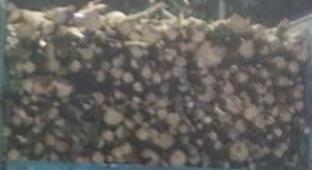large: (195, 42, 225, 67)
medium: (226, 14, 250, 33), (229, 141, 247, 161), (51, 81, 72, 98), (103, 108, 123, 125), (224, 96, 242, 114), (152, 133, 173, 148), (83, 13, 100, 30), (238, 39, 253, 58), (140, 150, 158, 165), (168, 150, 185, 165), (196, 87, 213, 102), (243, 105, 257, 120), (76, 49, 93, 60), (165, 113, 179, 126), (252, 115, 266, 128), (115, 125, 127, 139), (191, 30, 204, 42), (135, 128, 148, 140), (271, 57, 285, 68), (109, 68, 123, 79), (172, 67, 186, 78), (286, 61, 298, 73), (70, 60, 82, 72), (129, 46, 142, 57), (42, 21, 53, 33), (91, 93, 103, 104), (122, 119, 135, 129), (202, 76, 215, 86), (23, 62, 34, 73), (279, 111, 290, 122), (91, 152, 103, 162), (101, 131, 113, 141), (235, 72, 247, 82), (7, 150, 19, 160), (54, 142, 66, 152), (263, 93, 273, 104), (207, 131, 217, 142), (223, 81, 232, 93), (34, 143, 43, 155), (164, 30, 176, 39), (122, 72, 132, 82), (132, 82, 142, 92), (159, 83, 169, 93), (47, 61, 57, 71), (141, 67, 150, 78), (174, 58, 185, 67), (156, 99, 168, 107), (156, 110, 166, 119), (129, 31, 139, 40), (111, 147, 121, 156), (96, 71, 104, 82), (152, 73, 160, 83), (277, 77, 287, 85), (122, 143, 130, 153), (294, 102, 302, 111), (100, 62, 109, 70), (178, 125, 187, 133), (11, 117, 19, 126), (1, 129, 10, 137), (54, 119, 62, 127), (221, 71, 228, 79), (260, 70, 266, 78), (164, 56, 172, 61)
small: (271, 107, 278, 117), (258, 46, 266, 54), (294, 90, 302, 98), (273, 129, 281, 136), (114, 91, 122, 98), (20, 97, 27, 104), (257, 106, 264, 113), (130, 60, 135, 69), (204, 118, 211, 124), (38, 40, 45, 46), (188, 102, 194, 109), (150, 119, 156, 126), (84, 104, 91, 110), (32, 96, 38, 103), (214, 142, 220, 149), (196, 140, 202, 146), (257, 98, 263, 104), (50, 109, 56, 114), (267, 134, 272, 140), (106, 156, 111, 162), (133, 97, 139, 102), (116, 42, 120, 49), (48, 114, 55, 118), (155, 43, 160, 48), (184, 96, 189, 101), (53, 102, 58, 106), (196, 125, 201, 129), (10, 32, 15, 36), (108, 43, 112, 48), (31, 106, 37, 109), (80, 135, 84, 139), (251, 69, 255, 73), (86, 65, 90, 68), (159, 41, 163, 44), (255, 65, 260, 67)
